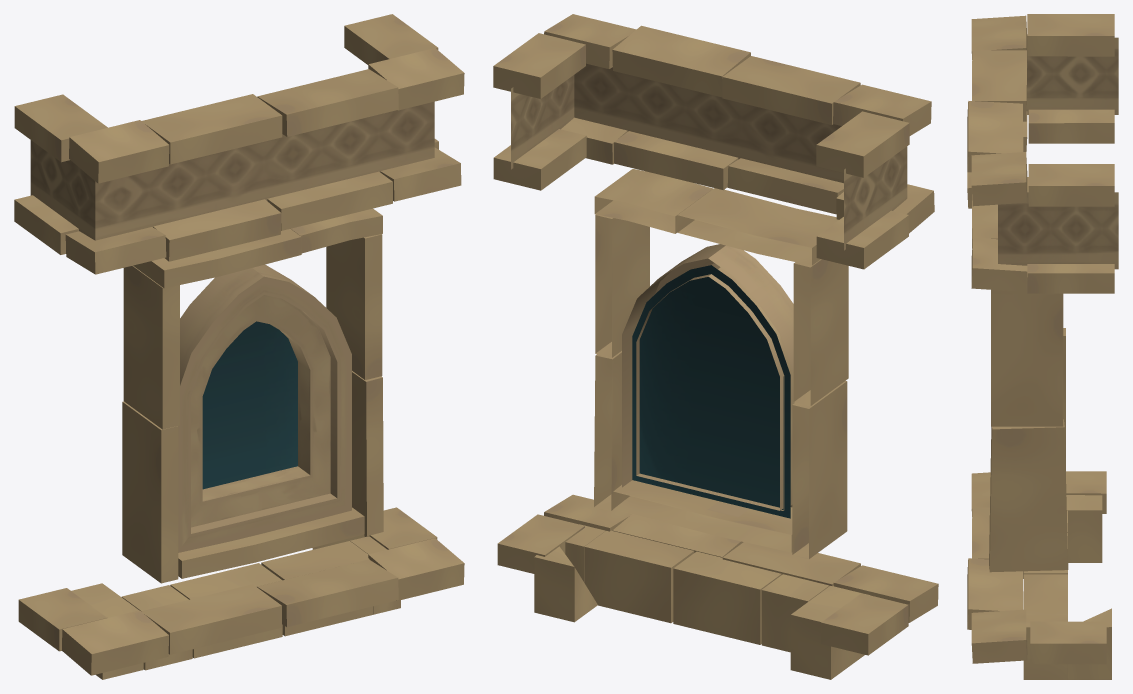
File: A_Addon_BigWindow_G_KitPart.FBX
3 renders of one model, left to right at view 1: azimuth 30°, elevation 25°; view 2: azimuth 150°, elevation 25°; view 3: azimuth 270°, elevation 25°, orthographic. The views are drawn at different scales.
Parts seen in each view (by area): view 1: A_Addon_BigWindow_G_KitPart; view 2: A_Addon_BigWindow_G_KitPart; view 3: A_Addon_BigWindow_G_KitPart.
Part boxes in pixels (x1=…): A_Addon_BigWindow_G_KitPart: x1=14, y1=14, x2=464, y2=679; A_Addon_BigWindow_G_KitPart: x1=493, y1=14, x2=938, y2=679; A_Addon_BigWindow_G_KitPart: x1=967, y1=14, x2=1118, y2=679.
Size of the model in its own units: 133 by 185 by 49.54.
Materials: 1 (1 with a texture image).
